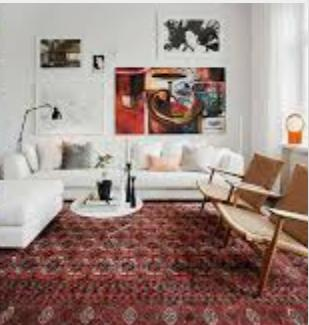carpet: (1, 203, 308, 325)
